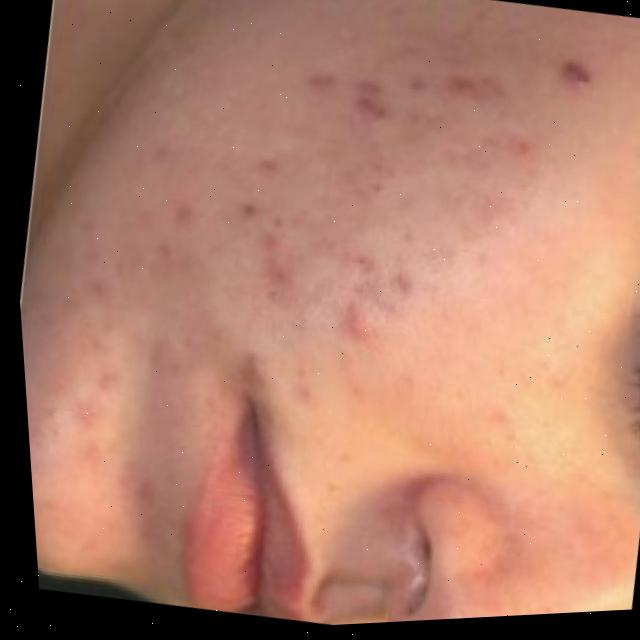Acne: (87, 0, 556, 419)
